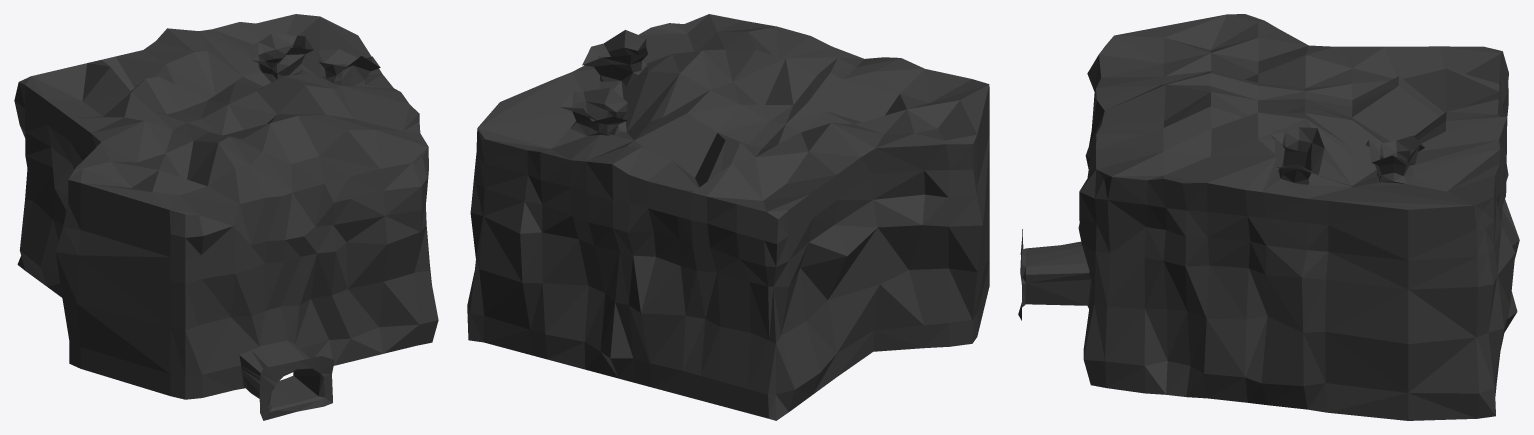
The model's file is Cave_14C_LOD_1.fbx.
3 renders of one model, left to right at view 1: azimuth 30°, elevation 25°; view 2: azimuth 150°, elevation 25°; view 3: azimuth 270°, elevation 25°, orthographic. The views are drawn at different scales.
Visible parts, largest first — view 1: polySurface1228; view 2: polySurface1228; view 3: polySurface1228.
Boxes of the visible parts, bbox=[...] form: polySurface1228: bbox=[14, 14, 438, 420]; polySurface1228: bbox=[467, 14, 989, 420]; polySurface1228: bbox=[1018, 14, 1519, 420].
Size of the model in its own units: 45.92 by 26.92 by 46.72.
